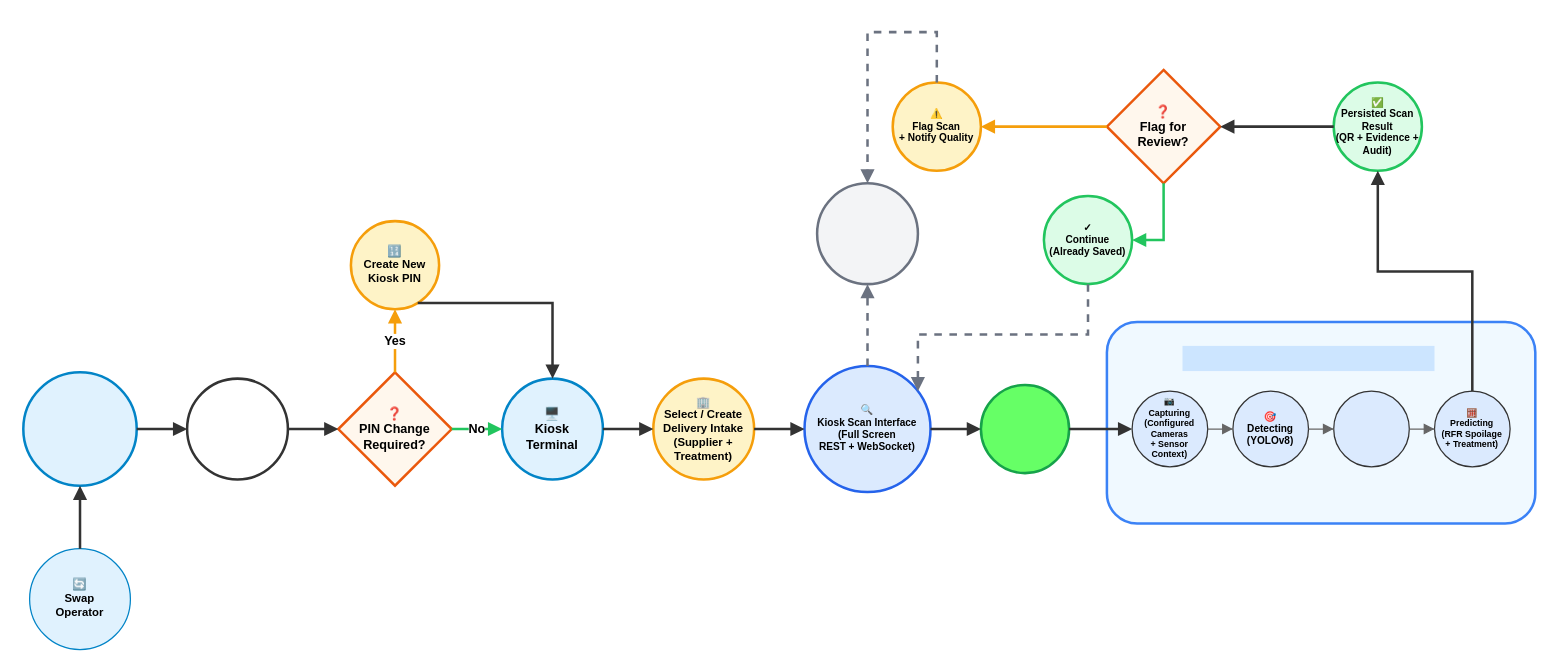
Some shapes in this 1557 by 672 pixel diagram are drawn without their labels. Here are the shapes that lost their labels. From the top down, the centre of each, then its label:
At [867,233]: "📋 Recent Scans (Last 5)".
At [1308,357]: "AI Scan Pipeline (Capture → Detect → Fuse → Predict)".
At [79,428]: "👤 Select Operator (Active Only)".
At [237,428]: "🔢 PIN Entry (4-digit)".
At [1024,428]: "▶️ Scan Now".
At [1370,428]: "🔬 Fuse + Analyze (Multi-camera + Engineered Features)".
